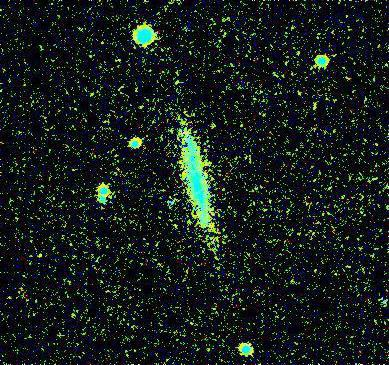star: (192, 215, 222, 245)
